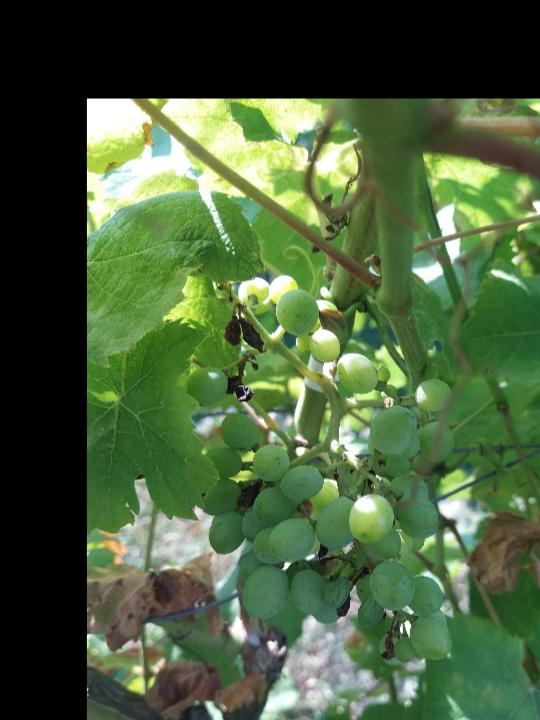grape: (185, 276, 458, 673)
